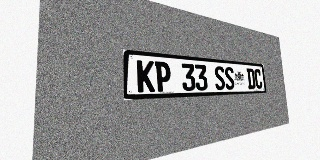3: (181, 63, 196, 91), (194, 64, 208, 91)
C: (254, 69, 263, 89)
D: (246, 68, 256, 89)
K: (137, 60, 155, 92)
P: (155, 61, 171, 92)
S: (214, 66, 225, 90), (224, 66, 235, 90)
